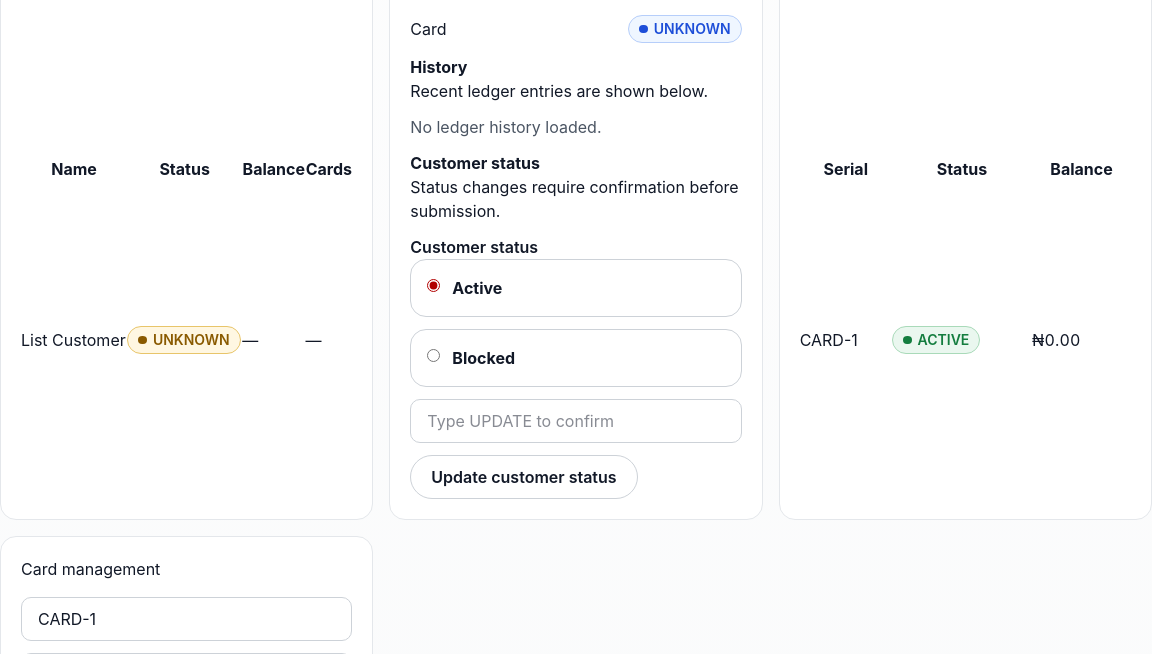
Test case: CustomerWorkspace › requires explicit confirmation before blocking a card
(page scrolled)
Click the button "CARD-1". click: (829, 340)
box: [800,328,858,352]
(page scrolled)
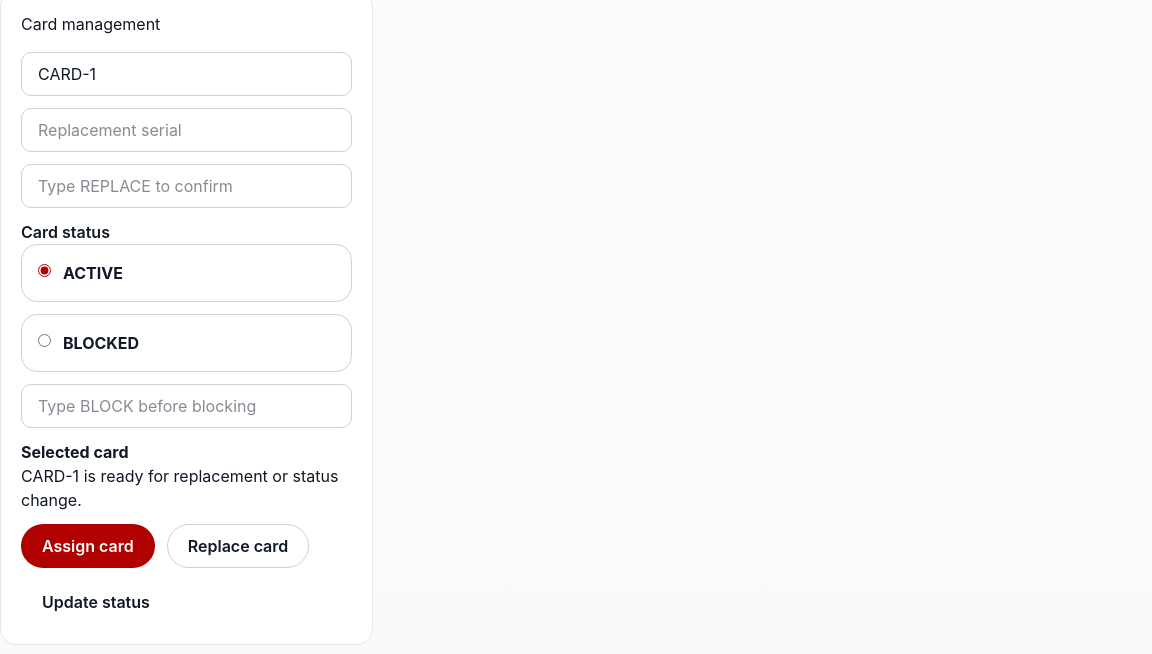
Click the radio button labelled "BLOCKED". click: (44, 341)
box: [38,334,51,347]
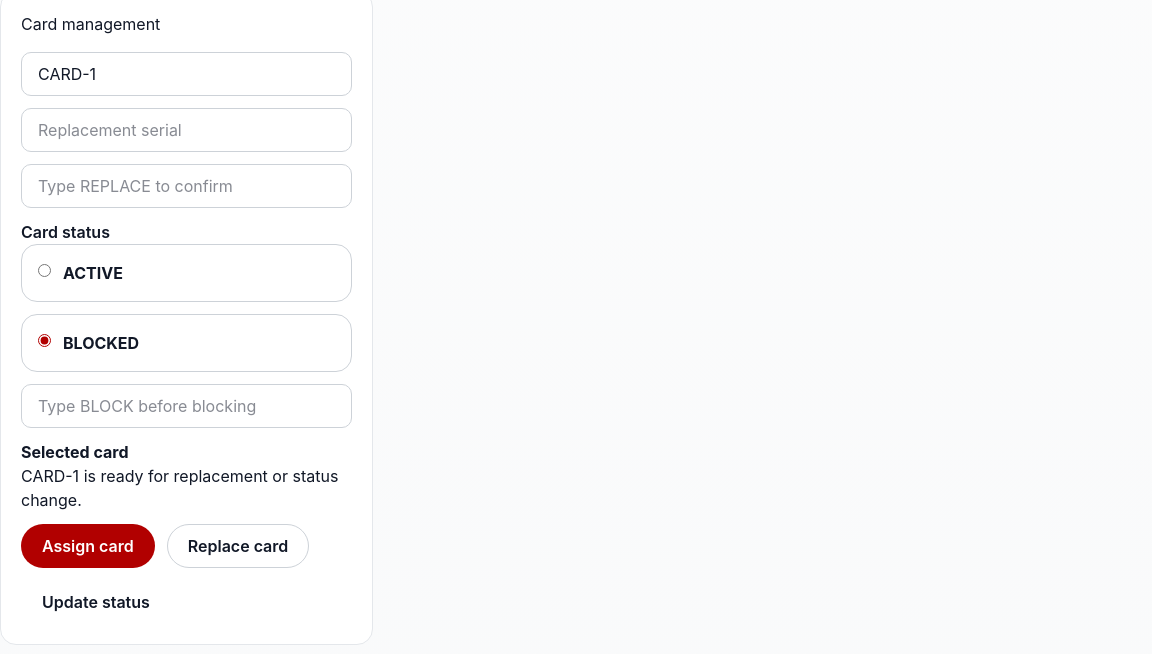
Click the button "Update status". click: (96, 602)
box: [21,580,171,624]
(page scrolled)
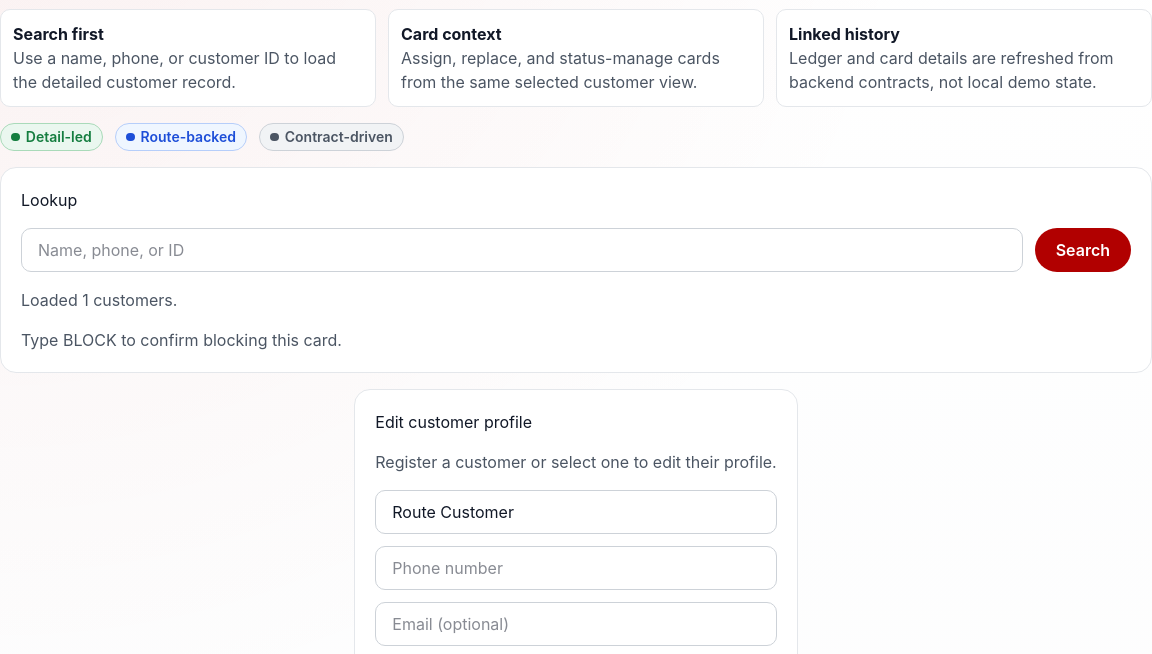
Expected: the text "Type BLOCK to confirm blocking this card." is shown, [21,330,342,350]
